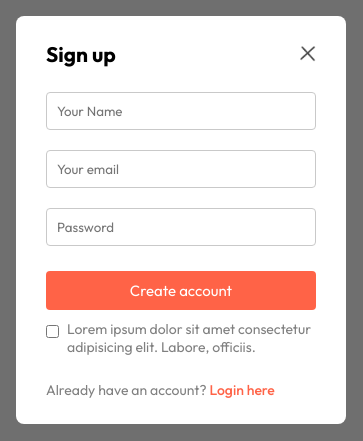
Scenario: Login Component › toggles to login form
This screenshot has width=363, height=441.
Click the text "Login here": (242, 390) x1=210 y1=381 x2=275 y2=399
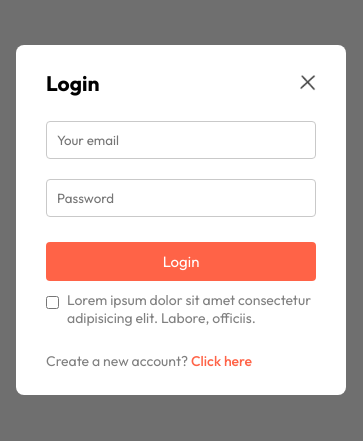
Expected: the field with placeholder "Your Name" is not shown
Expected: the button "Login" is shown, x1=46 y1=242 x2=316 y2=281
